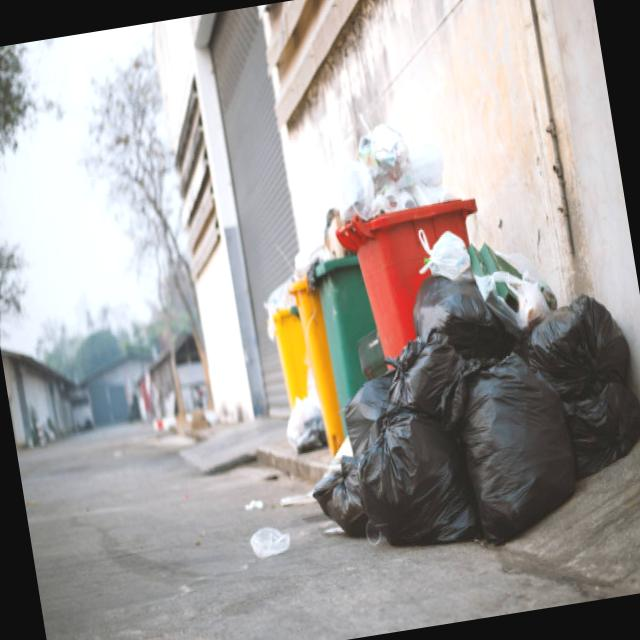garbage: (255, 200, 640, 583)
